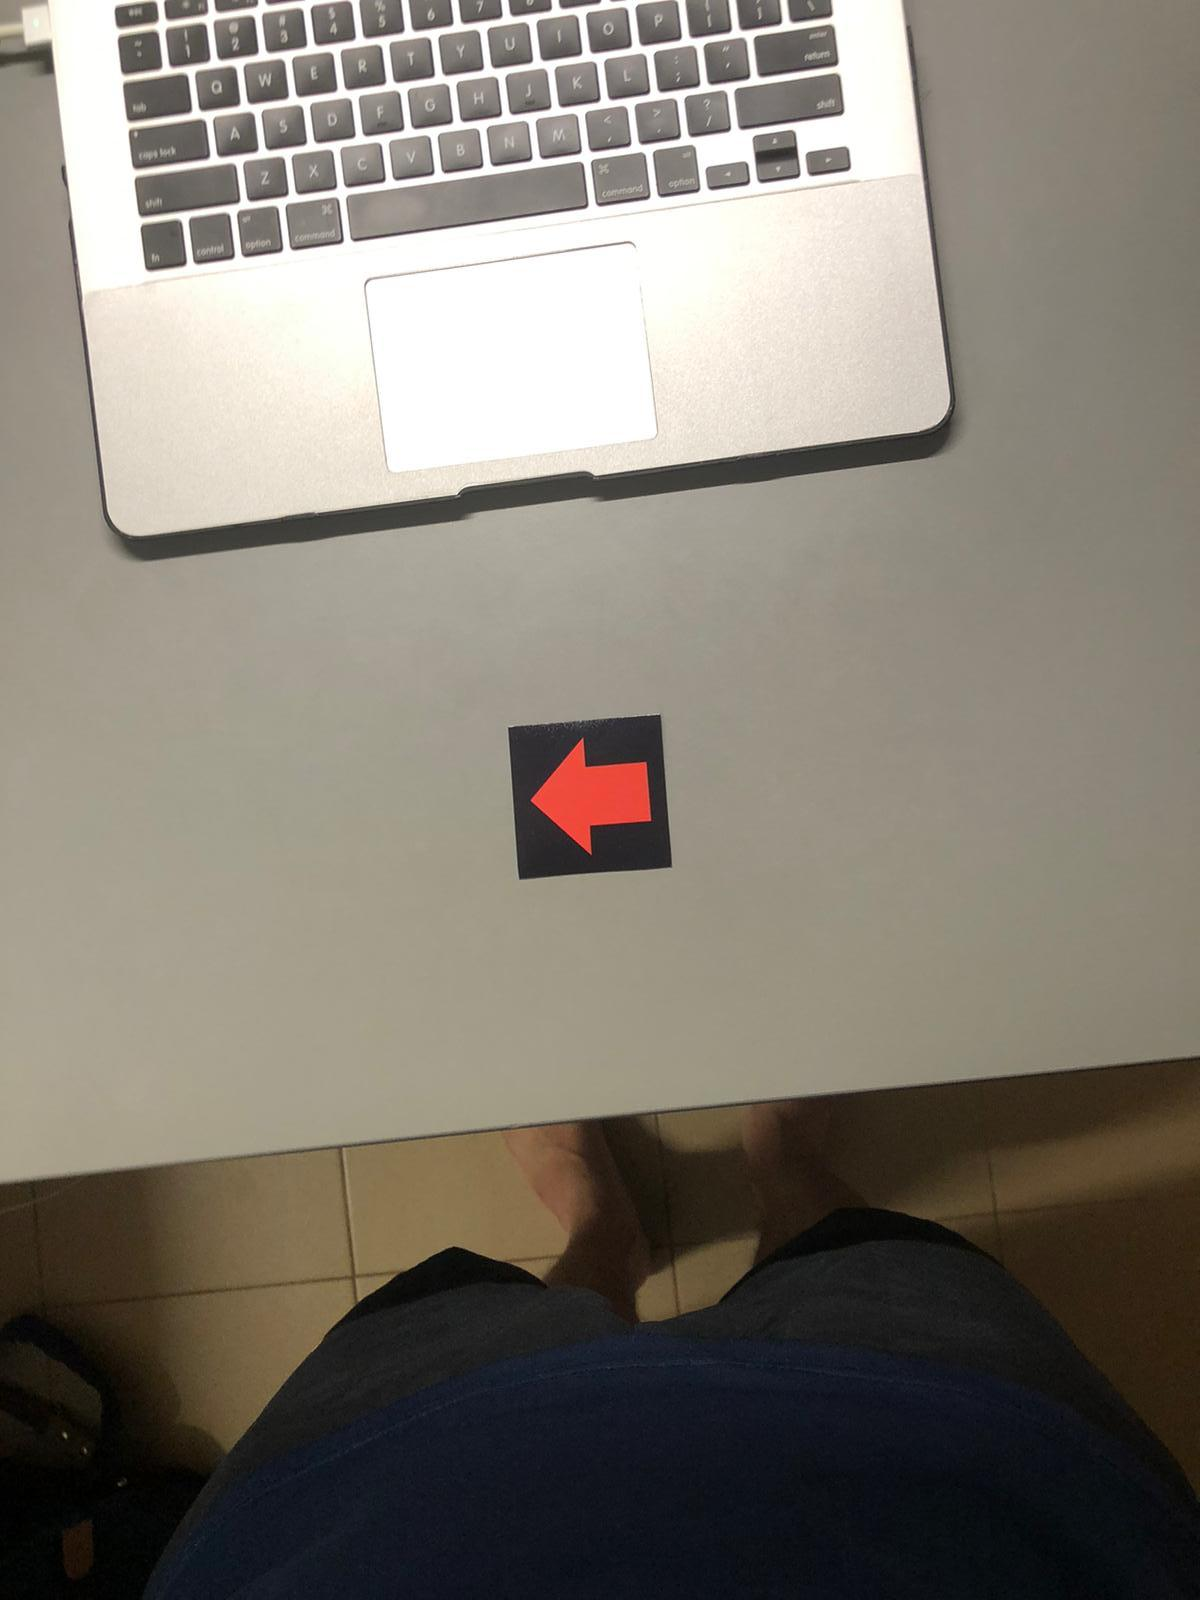Left Arrow: (508, 719, 671, 874)
